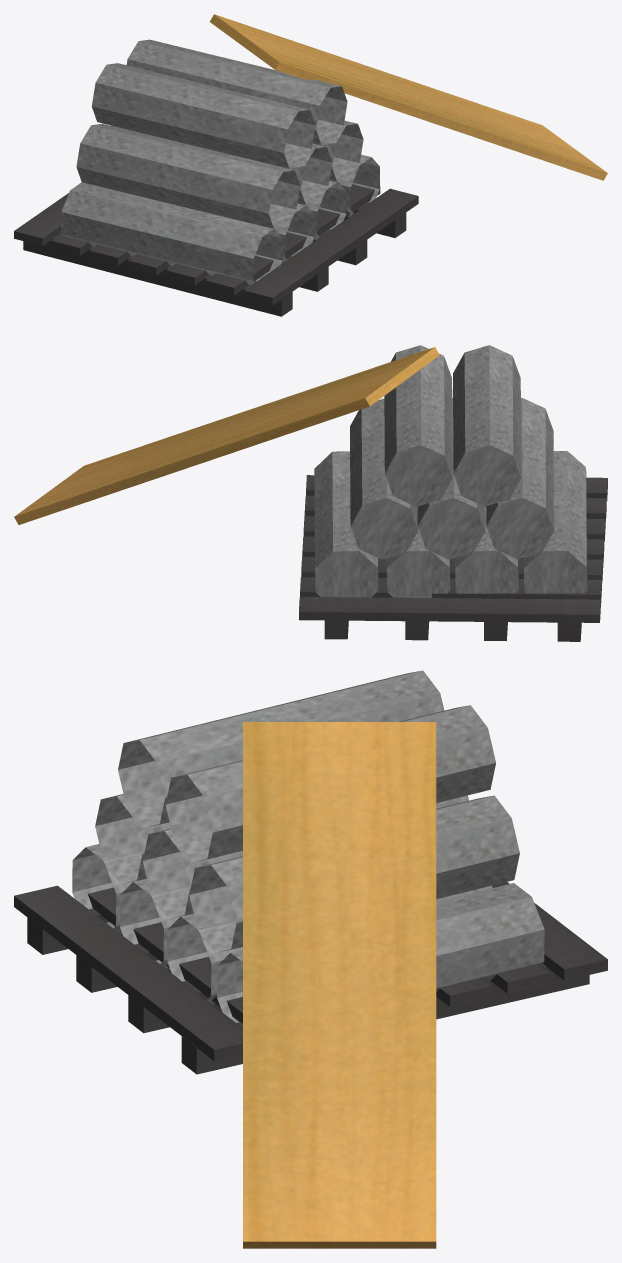
File: contrucao_rampa.fbx
3 renders of one model, top to bottom at view 1: azimuth 30°, elevation 25°; view 2: azimuth 150°, elevation 25°; view 3: azimuth 270°, elevation 25°, orthographic. The views are drawn at different scales.
Visible parts, largest first — view 1: Cube.322, Cube.000; view 2: Cube.322, Cube.000; view 3: Cube.000, Cube.322.
Boxes of the visible parts, <box> form: Cube.322: <box>14,39,418,316</box>; Cube.000: <box>210,14,607,180</box>; Cube.322: <box>299,345,607,641</box>; Cube.000: <box>14,347,439,524</box>; Cube.000: <box>243,722,436,1248</box>; Cube.322: <box>14,670,607,1074</box>.
Bounding box in the file's own units: 492 × 173 × 318.
